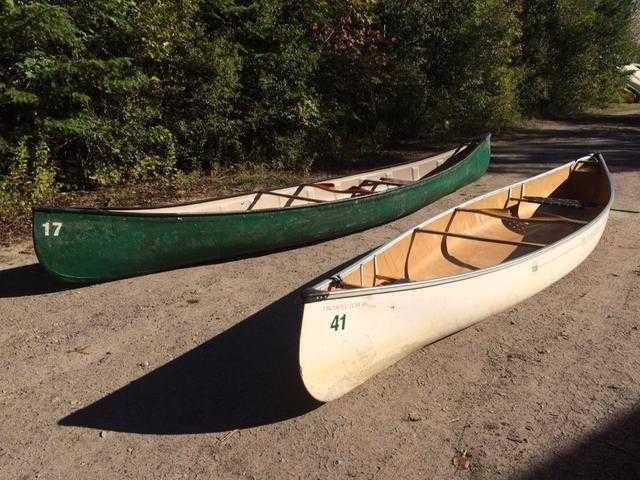kayak: (297, 152, 615, 407), (30, 134, 492, 286)
